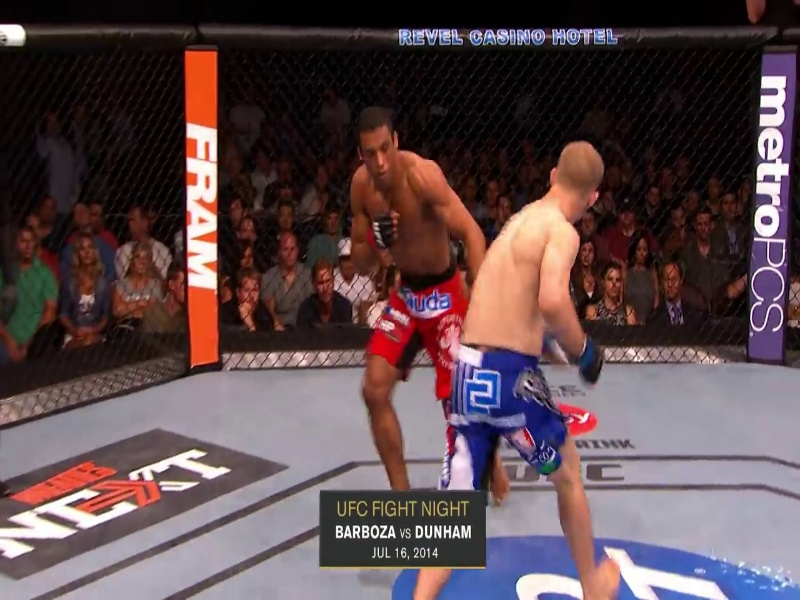fighter: (408, 134, 628, 600), (334, 99, 521, 507)
